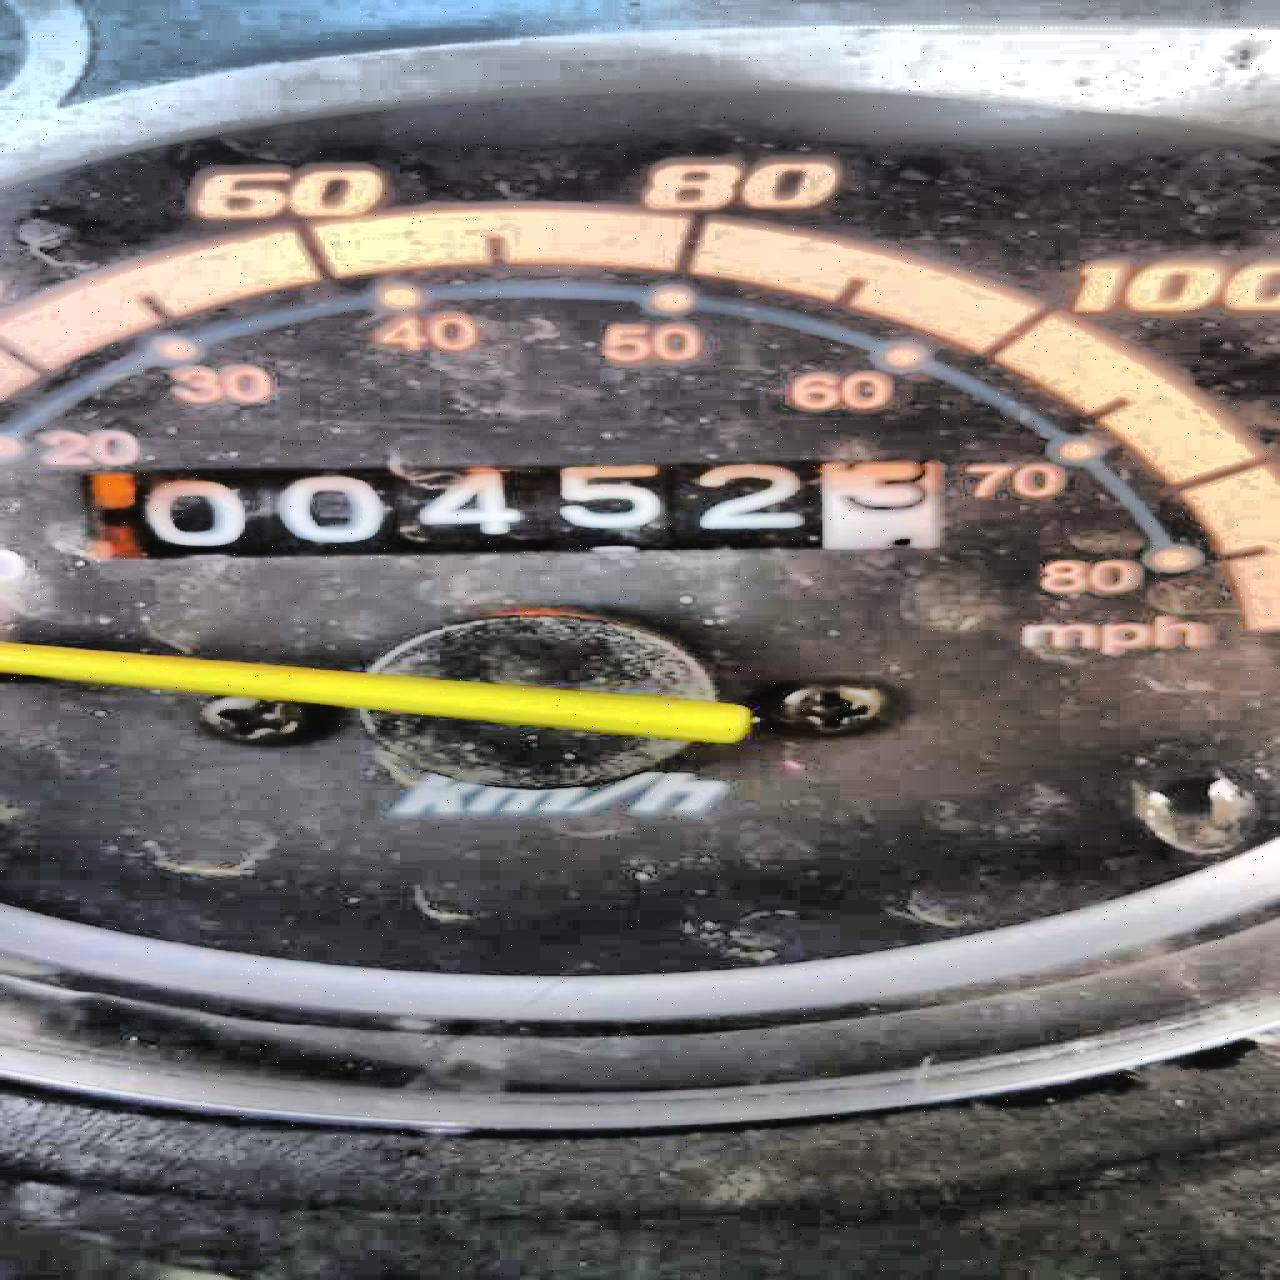0: (270, 472, 382, 543), (137, 476, 245, 546)
2: (690, 462, 808, 530)
3: (835, 458, 935, 512)
4: (407, 468, 525, 537)
5: (547, 465, 665, 529)
odometer: (64, 455, 967, 563)
